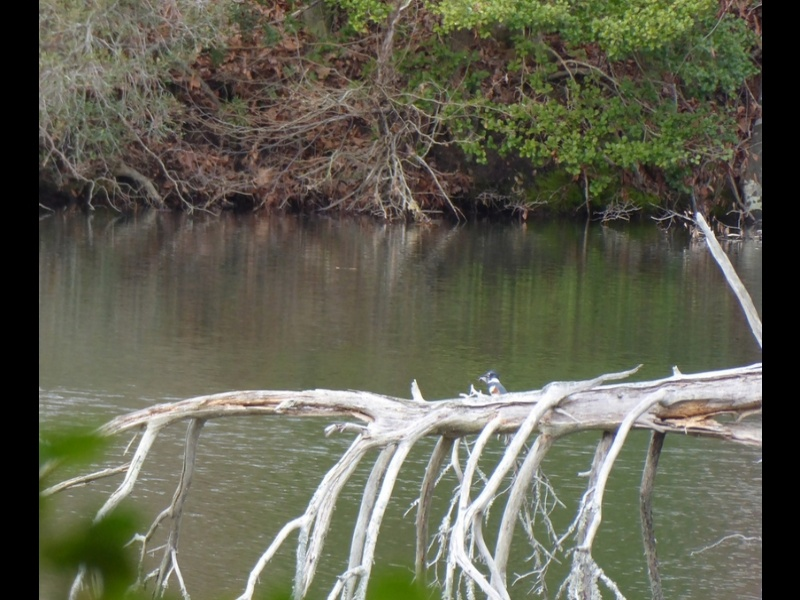kingfisher: (478, 369, 509, 398)
